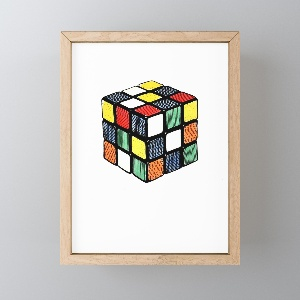cube: (101, 80, 198, 183)
